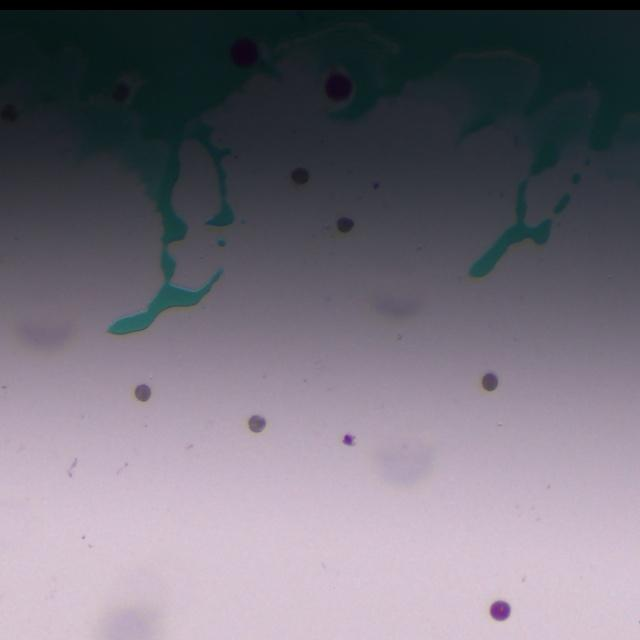non_viable: (111, 81, 130, 102), (481, 372, 498, 391), (291, 167, 309, 184), (335, 216, 353, 233), (248, 414, 265, 432), (0, 104, 16, 120), (135, 384, 150, 401)
viable: (324, 72, 353, 102), (230, 38, 258, 68), (490, 600, 510, 620)
